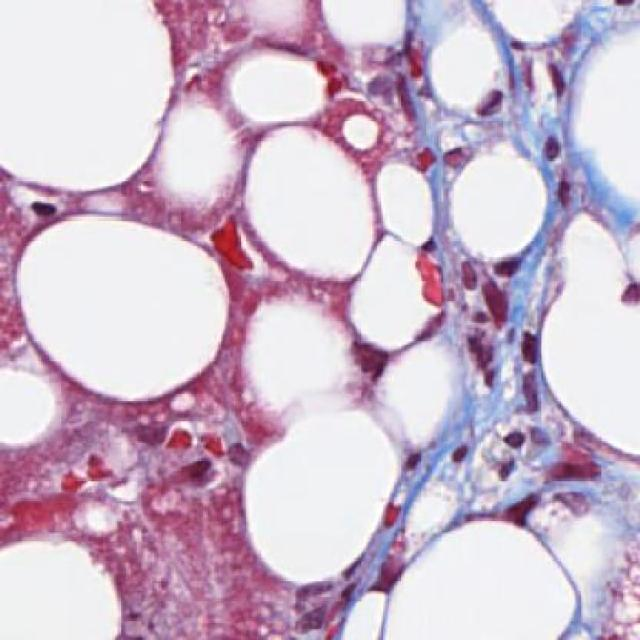inflammation: (445, 254, 547, 395)
